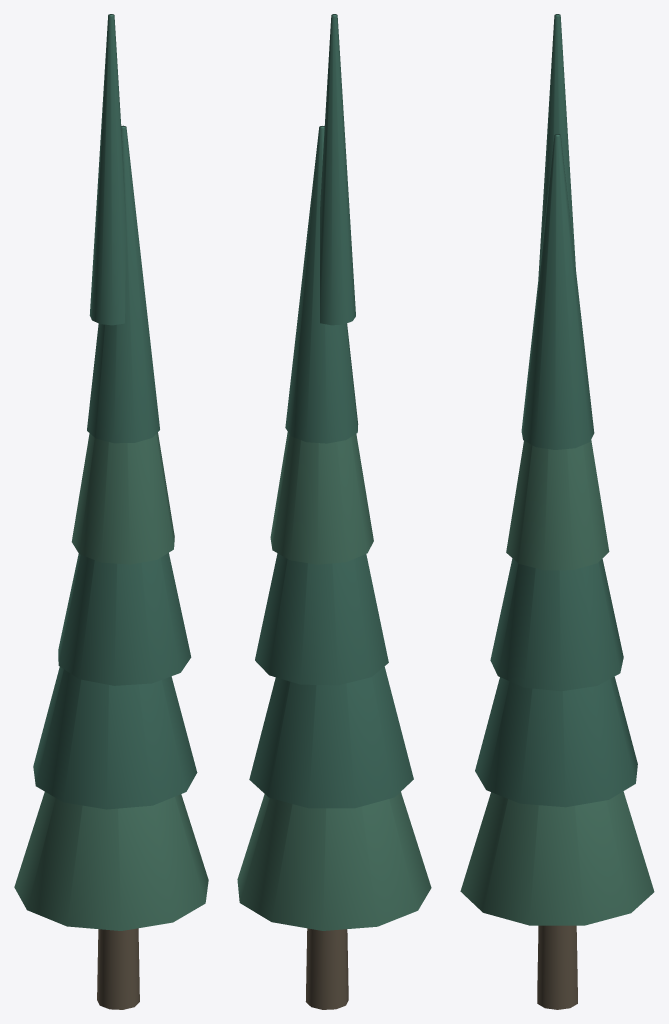
Rendered from cypress_tree_variant_02.glb.
The picture shows the model from 3 angles, left to right: view 1: azimuth 30°, elevation 25°; view 2: azimuth 150°, elevation 25°; view 3: azimuth 270°, elevation 25°; orthographic projection.
Visible parts, largest first — view 1: static_leaf_pine, static_leaf_pine_light, trunk; view 2: static_leaf_pine, static_leaf_pine_light, trunk; view 3: static_leaf_pine, static_leaf_pine_light, trunk.
Boxes of the visible parts, bbox=[...] form: static_leaf_pine: bbox=[33, 14, 197, 809]; static_leaf_pine_light: bbox=[14, 432, 208, 930]; trunk: bbox=[97, 928, 139, 1009]; static_leaf_pine: bbox=[249, 14, 413, 808]; static_leaf_pine_light: bbox=[237, 432, 431, 930]; trunk: bbox=[305, 928, 348, 1009]; static_leaf_pine: bbox=[475, 14, 637, 807]; static_leaf_pine_light: bbox=[460, 440, 654, 925]; trunk: bbox=[537, 925, 577, 1009].
Bounding box in the file's own units: 1.79 × 10.09 × 1.81.
